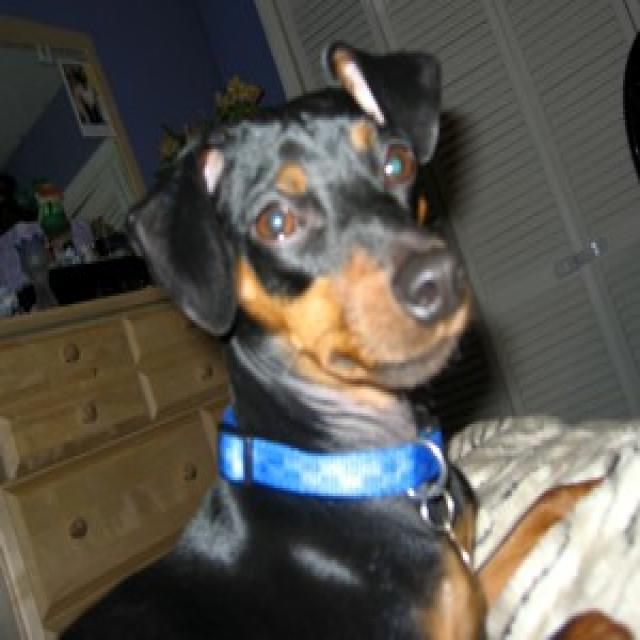dog-miniature_pinscher: (55, 29, 602, 635)
